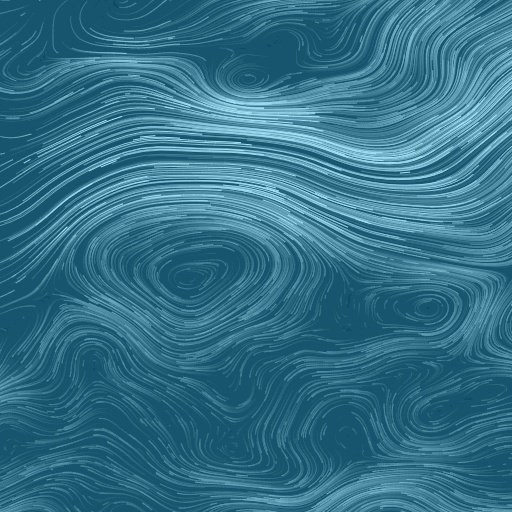eddy: (127, 235, 258, 320), (396, 286, 460, 330), (217, 61, 274, 98), (416, 395, 461, 428)
